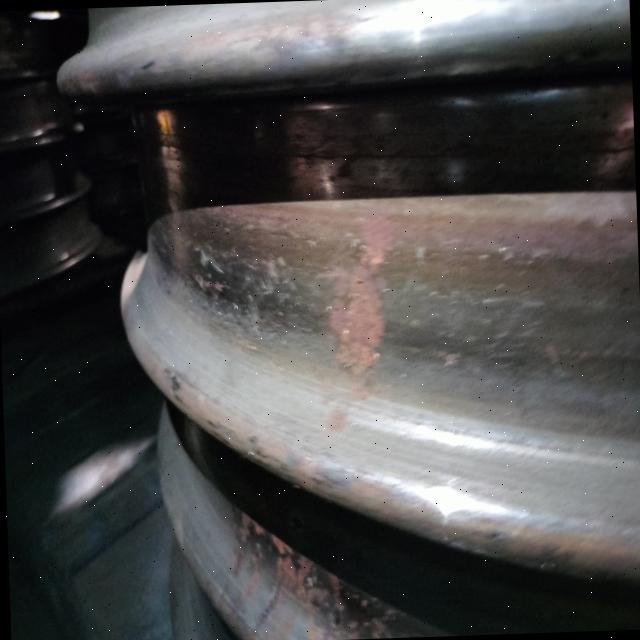Peeling: (167, 207, 261, 316)
